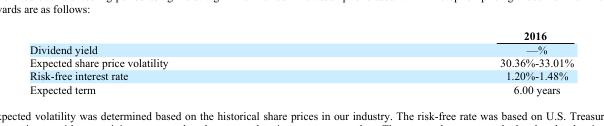table: (28, 29, 573, 94)
table column: (28, 29, 333, 94), (333, 29, 573, 94)
table column header: (28, 29, 573, 42)
table row: (28, 42, 573, 56), (28, 29, 573, 42), (28, 56, 573, 69), (28, 69, 573, 82), (28, 82, 573, 94)
